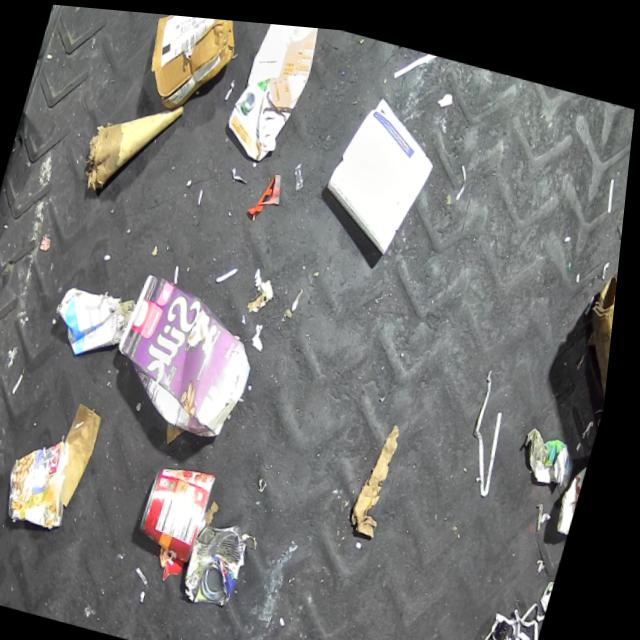can: (142, 450, 227, 558), (7, 424, 94, 529), (188, 506, 265, 607), (560, 436, 599, 529)
non_white_jug: (105, 264, 275, 443), (220, 16, 321, 159)
